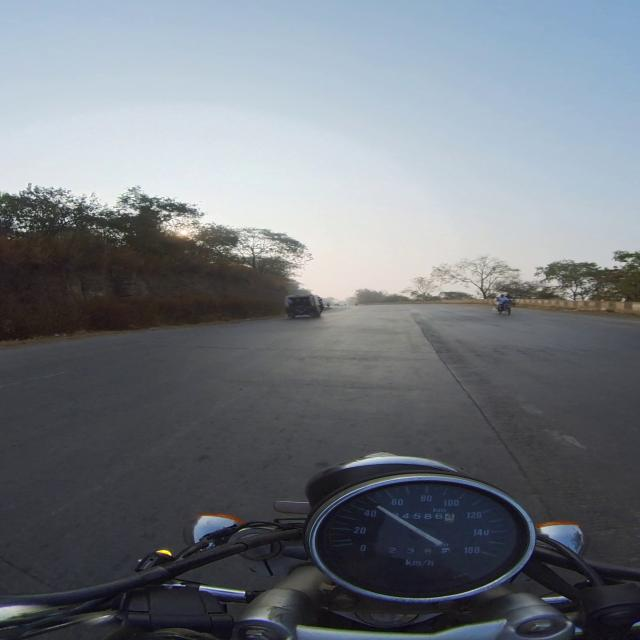motorcycle: (0, 454, 639, 639)
